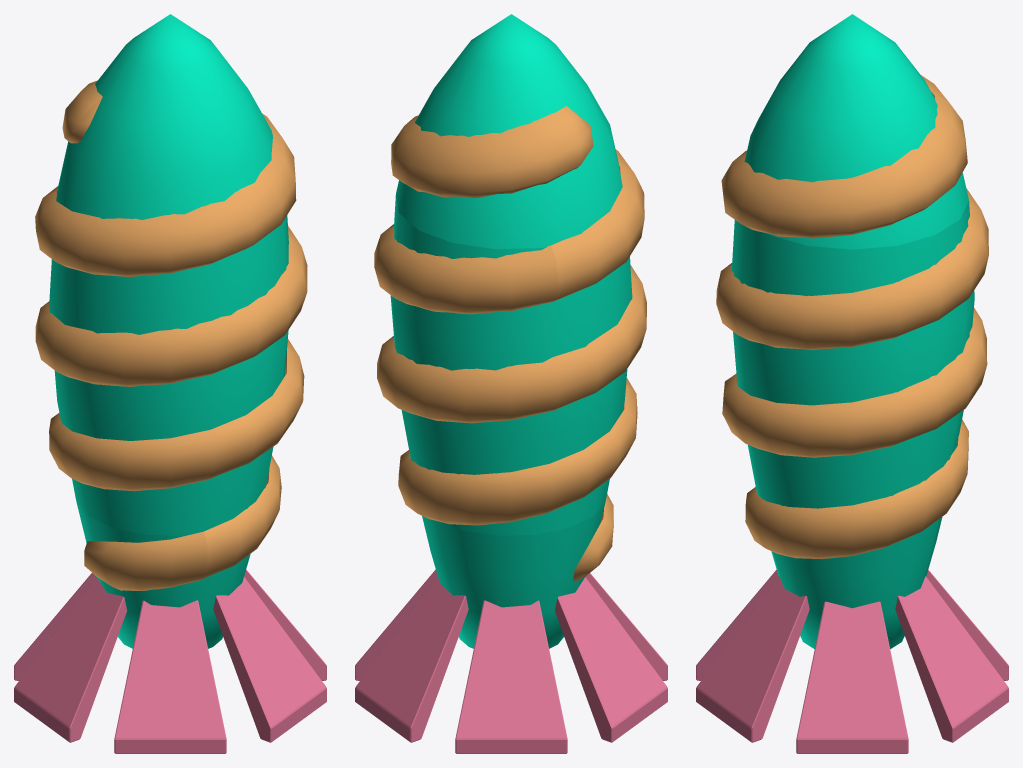
File: Bomb_7.fbx
3 views of the same model, side by side, from view 1: azimuth 30°, elevation 25°; view 2: azimuth 150°, elevation 25°; view 3: azimuth 270°, elevation 25° (orthographic).
Visible parts, largest first — view 1: Body_Lv7, Head_Lv7, Motor_Lv7; view 2: Body_Lv7, Motor_Lv7, Head_Lv7; view 3: Body_Lv7, Motor_Lv7, Head_Lv7.
Part boxes in pixels (x1,y1,x2,y2): Body_Lv7: (35,186,307,579); Head_Lv7: (35,14,296,276); Motor_Lv7: (14,502,326,753); Body_Lv7: (374,195,646,535); Motor_Lv7: (355,494,667,753); Head_Lv7: (391,14,644,301); Body_Lv7: (716,188,988,559); Motor_Lv7: (696,517,1008,753); Head_Lv7: (721,14,968,249).
Size of the model in its own units: 2.73 by 6.86 by 2.87.
